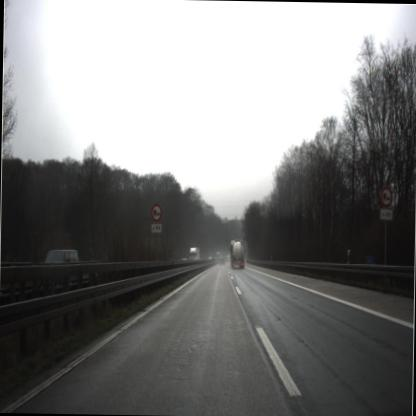prohibitory: (376, 184, 394, 214), (147, 201, 163, 222)
